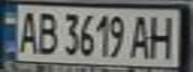1: (93, 11, 112, 57)
3: (57, 9, 81, 56)
6: (78, 11, 96, 57)
9: (109, 11, 130, 58)
A: (12, 8, 42, 55), (127, 11, 154, 60)
B: (33, 8, 60, 56)
H: (145, 11, 178, 60)
